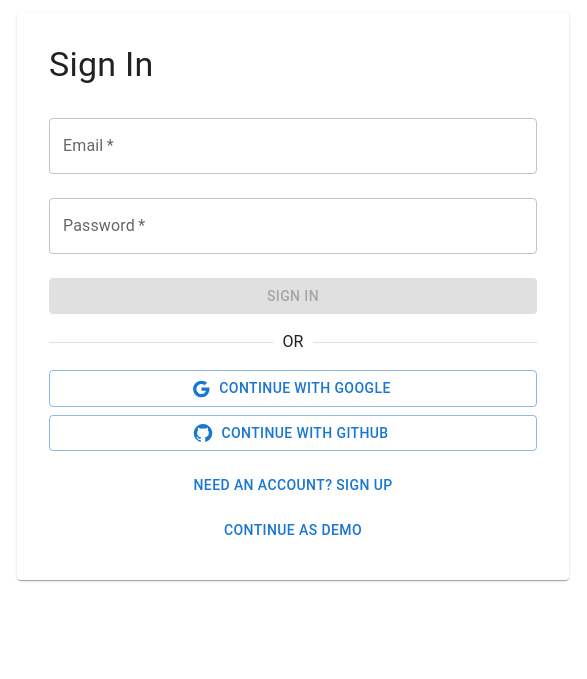
Scenario: AuthPage › toggles between sign in and sign up
The image size is (587, 679).
Expected: the heading "Sign In" is shown, [49, 44, 154, 84]
Click the button "Need an account? Sign Up".
click(293, 486)  # box [49, 468, 537, 504]
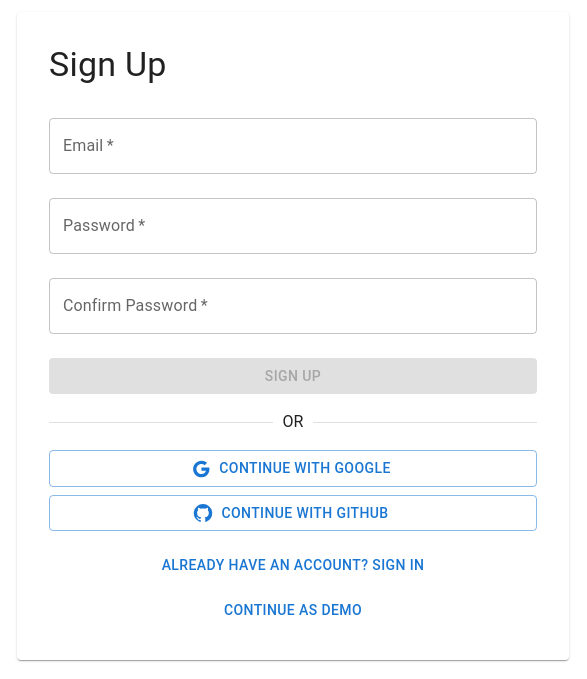
Expected: the heading "Sign Up" is shown, [49, 44, 167, 84]
Click the button "Already have an account? Sign In".
click(293, 566)  # box [49, 548, 537, 584]
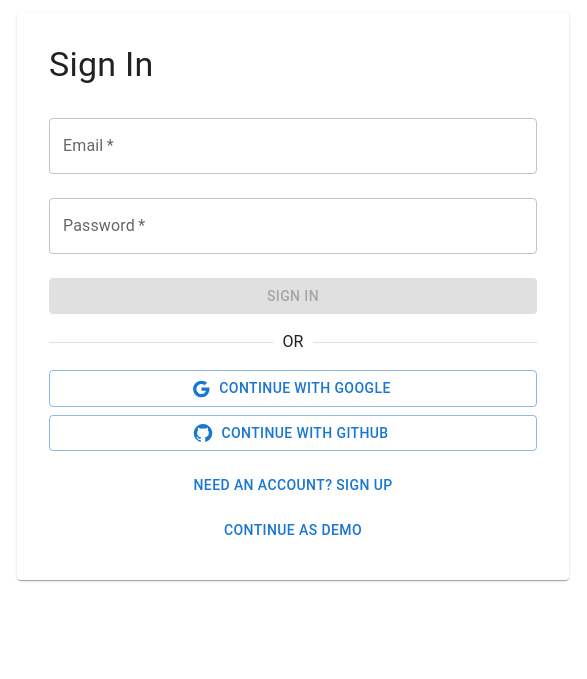
Expected: the heading "Sign In" is shown, [49, 44, 154, 84]
